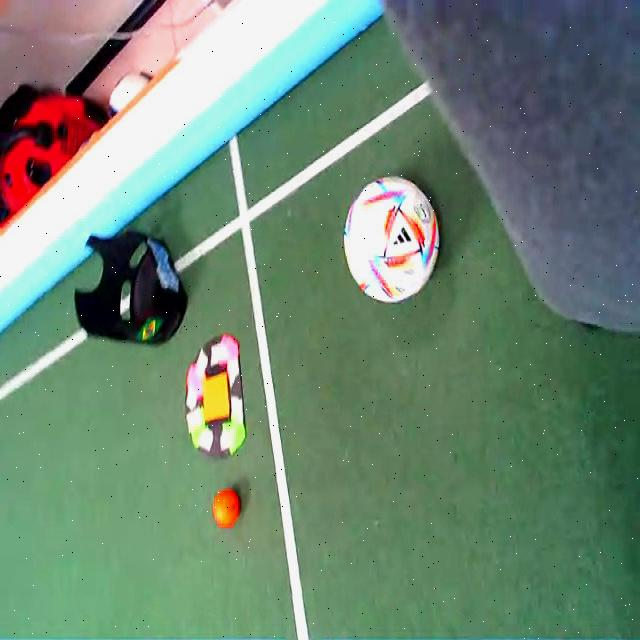ball: (344, 177, 440, 303)
